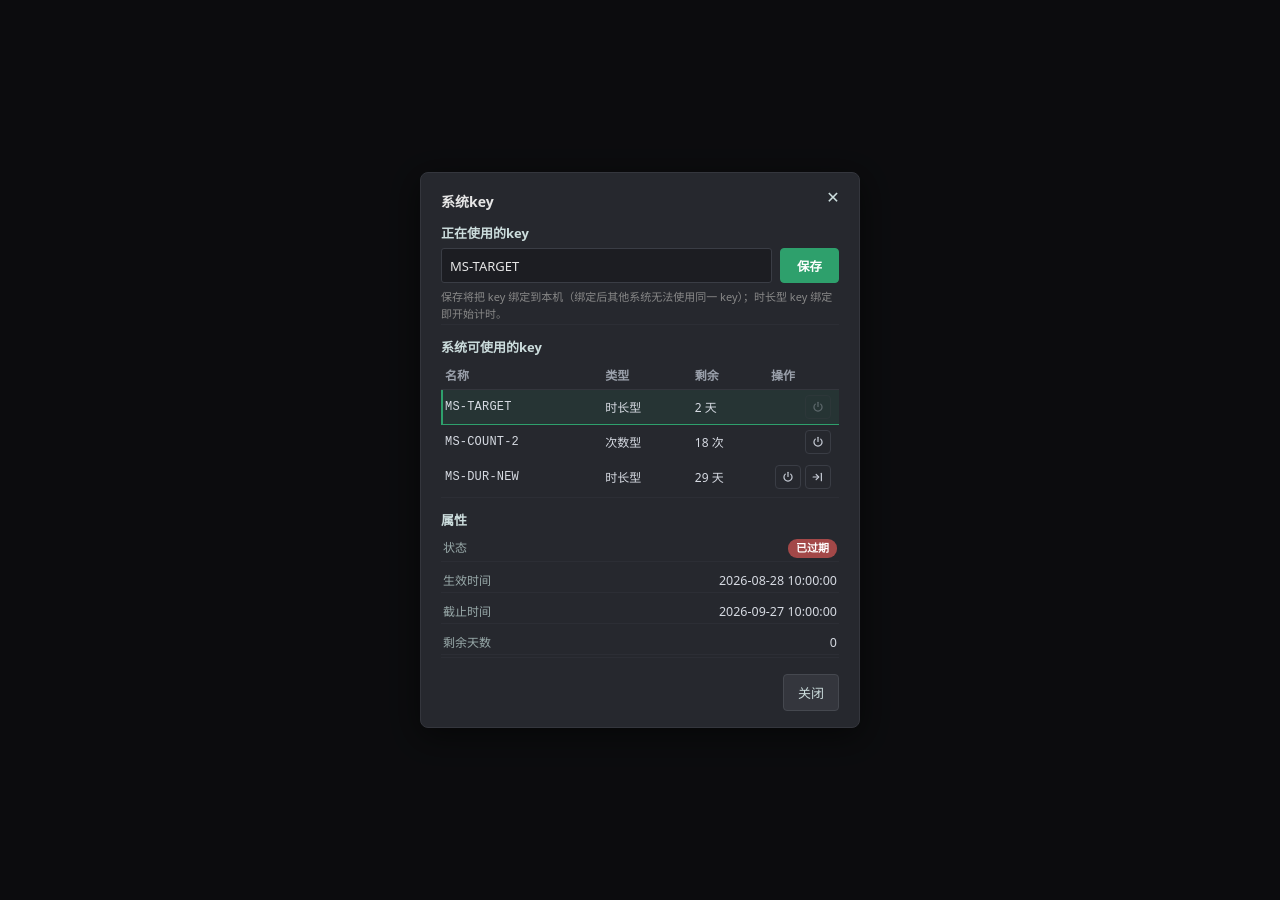
Test case: KeyInfoModal ② 系统可使用的key 表格（US-011） › 点启用 → save(行key)（bind 幂等切换）+ 输入框对齐新 key
Click the button with test id "key-info-enable" in the row of "MS-DUR-NEW" at (788, 477), box [775, 465, 801, 489]
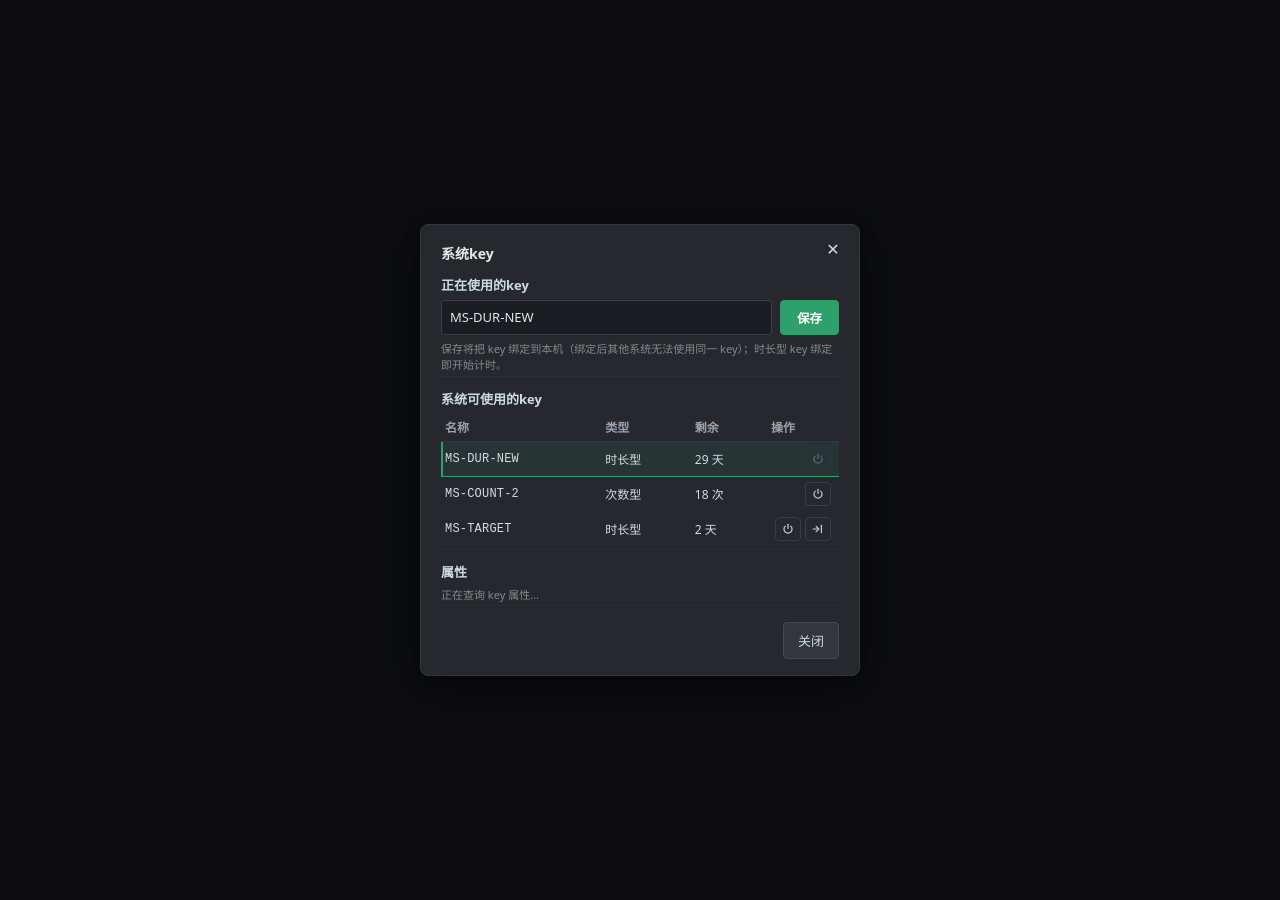
Now the field with test id "key-info-key-input" holds "MS-DUR-NEW", box [441, 300, 772, 335]
